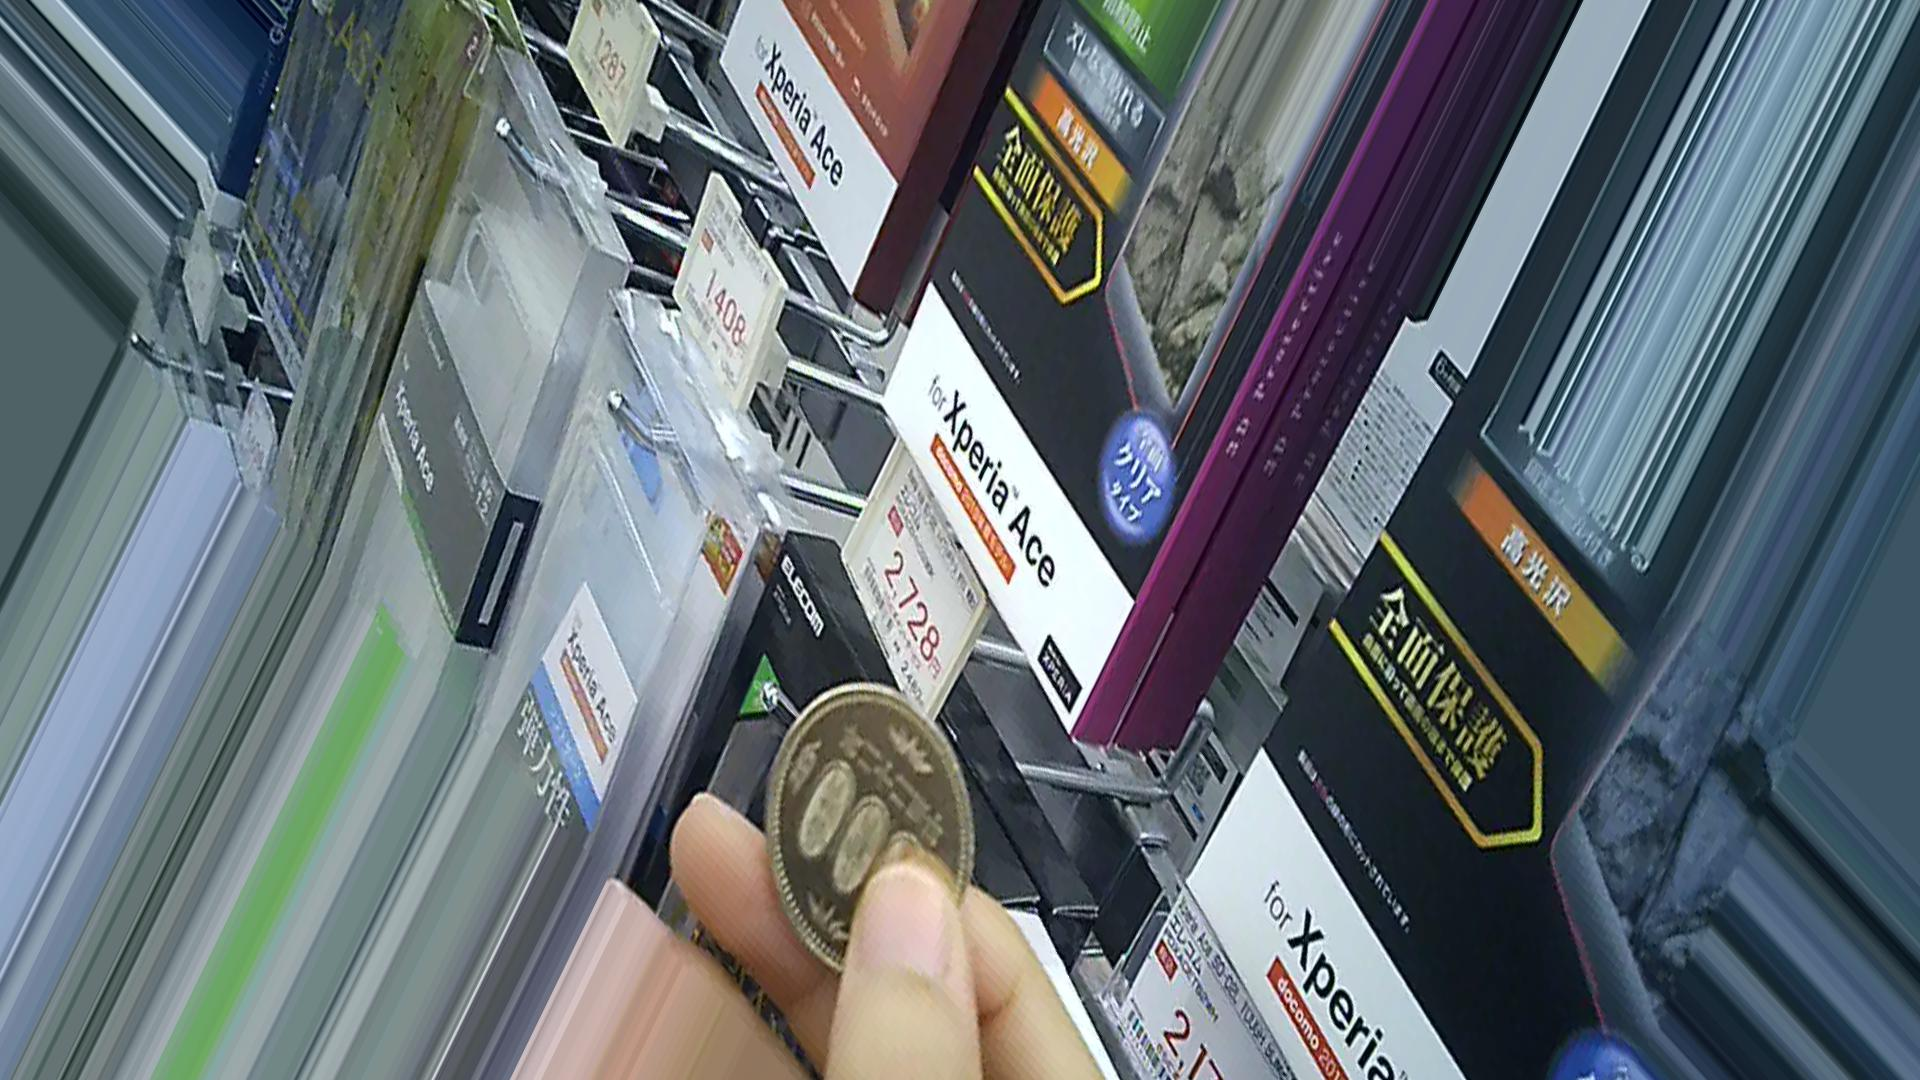500 Yen: (761, 680, 968, 975)
